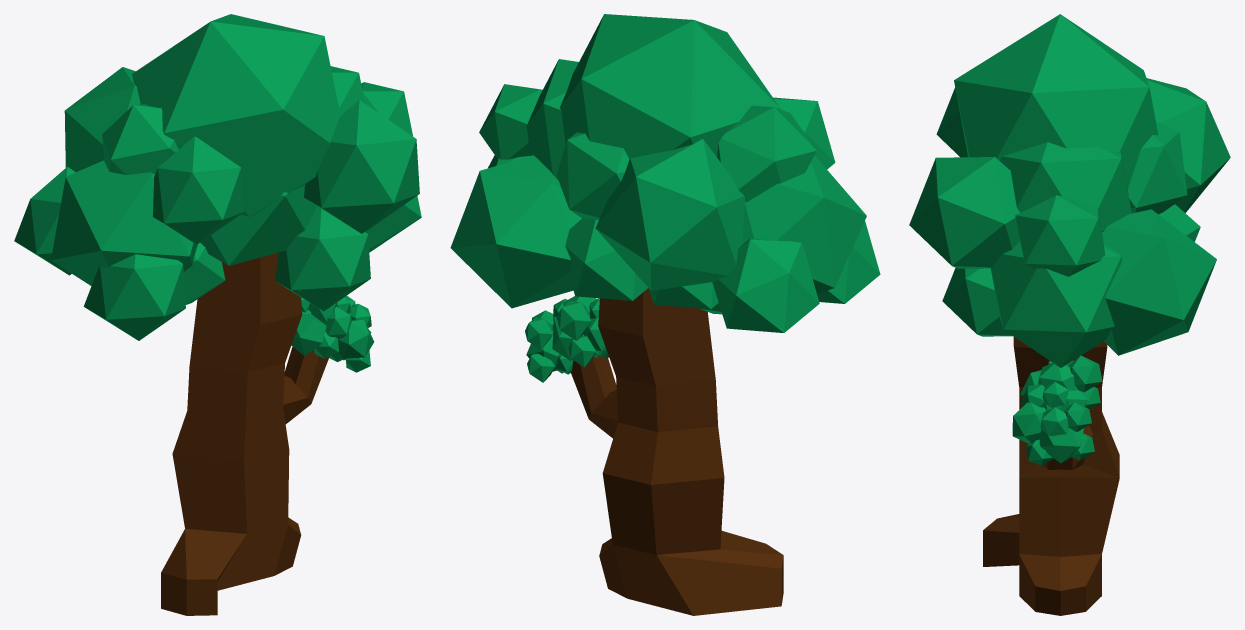
The model's file is Arbolito3.fbx.
3 renders of one model, left to right at view 1: azimuth 30°, elevation 25°; view 2: azimuth 150°, elevation 25°; view 3: azimuth 270°, elevation 25°, orthographic. The views are drawn at different scales.
Visible parts, largest first — view 1: Arbolito3; view 2: Arbolito3; view 3: Arbolito3.
Part boxes in pixels (x1,y1,x2,y2): Arbolito3: [14, 14, 421, 615]; Arbolito3: [450, 14, 880, 615]; Arbolito3: [909, 14, 1230, 615].
Size of the model in its own units: 0.2695 by 0.412 by 0.2113.
